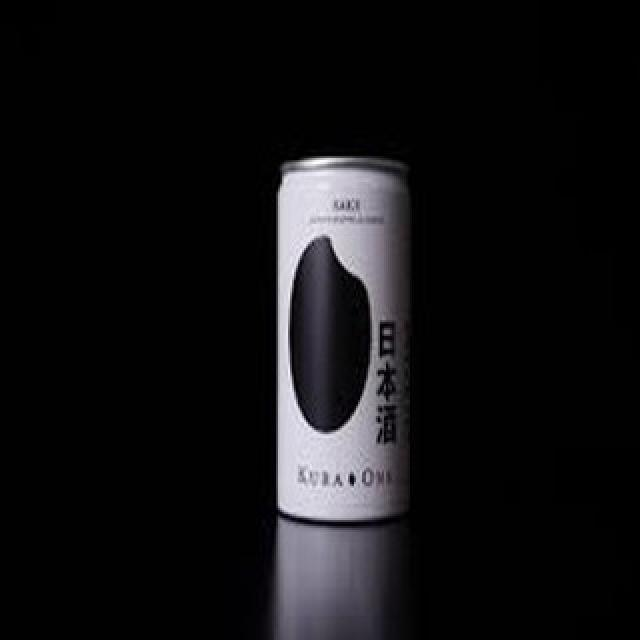recyclable: (263, 154, 430, 532)
